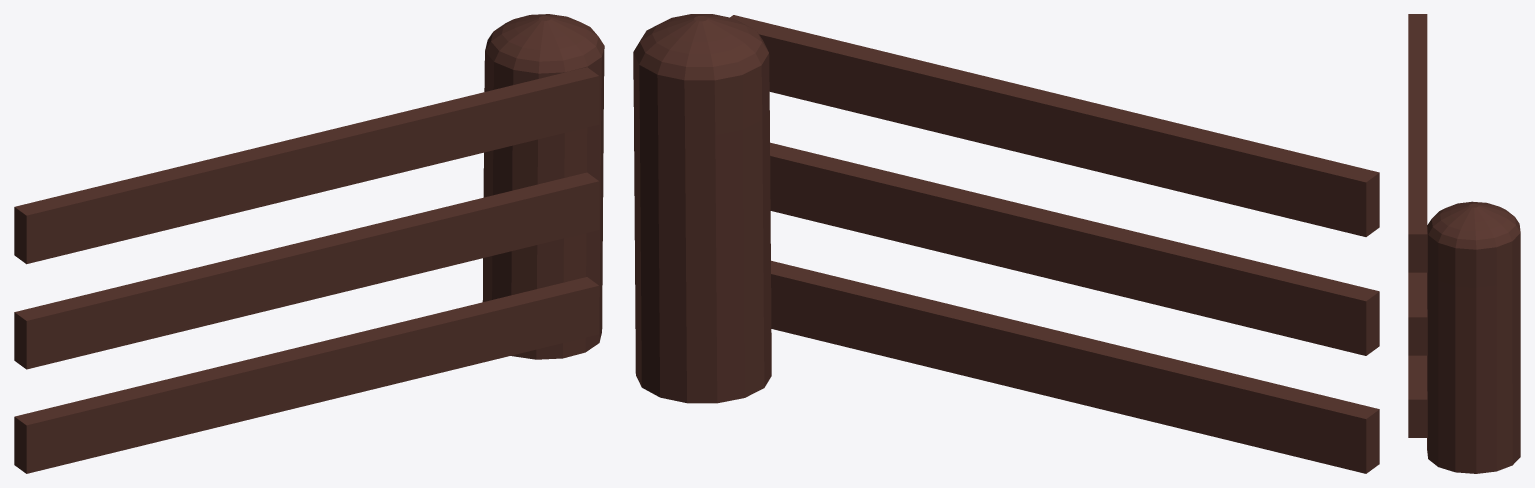
The model's file is fence_onepiece 1.fbx.
The picture shows the model from 3 angles, left to right: view 1: azimuth 30°, elevation 25°; view 2: azimuth 150°, elevation 25°; view 3: azimuth 270°, elevation 25°; orthographic projection. The views are drawn at different scales.
Parts seen in each view (by area): view 1: Cylinder; view 2: Cylinder; view 3: Cylinder.
Part boxes in pixels (bbox=[...]): Cylinder: bbox=[14, 14, 604, 473]; Cylinder: bbox=[633, 14, 1379, 473]; Cylinder: bbox=[1408, 14, 1520, 473].
Bounding box in the file's own units: 483 × 239 × 97.52.
